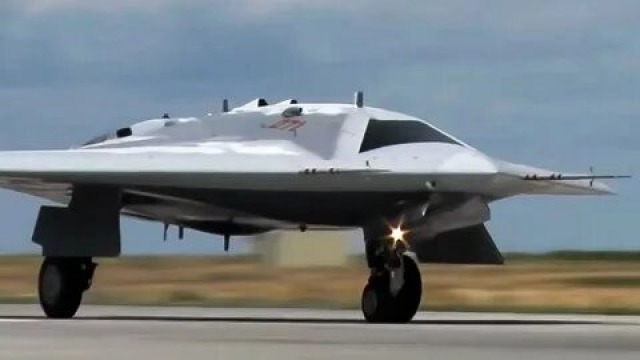military drone: (0, 91, 633, 322)
